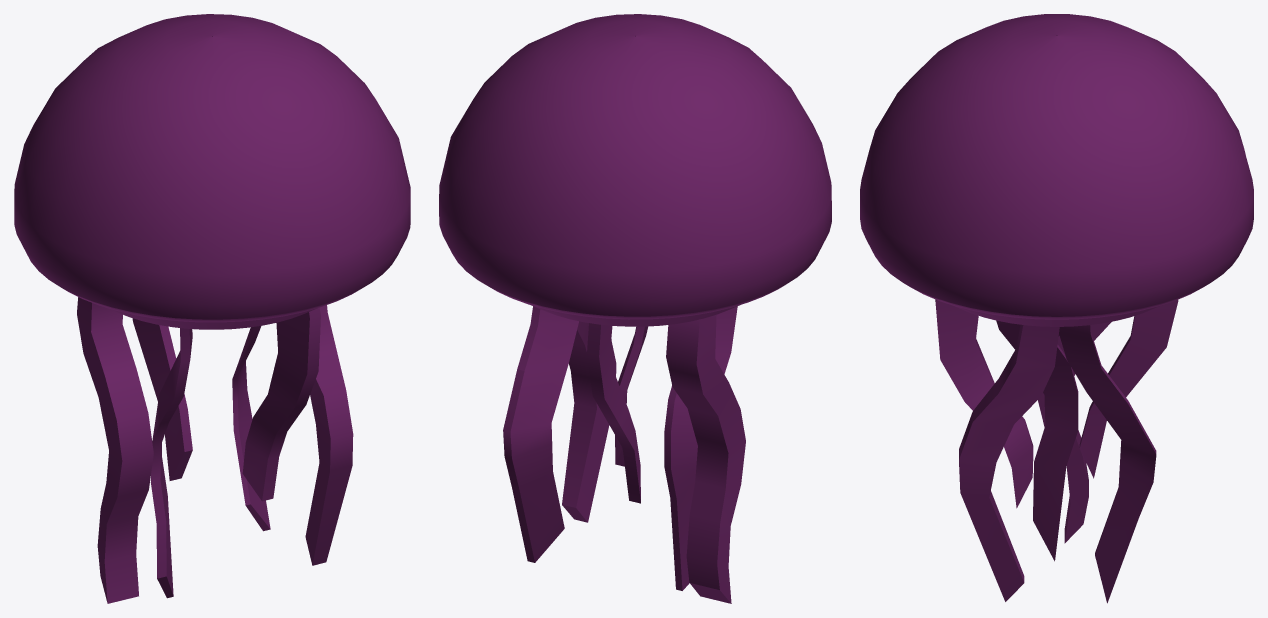
File: Medusa.fbx
3 renders of one model, left to right at view 1: azimuth 30°, elevation 25°; view 2: azimuth 150°, elevation 25°; view 3: azimuth 270°, elevation 25°, orthographic.
Parts seen in each view (by area): view 1: nurbsToPoly1; view 2: nurbsToPoly1; view 3: nurbsToPoly1.
Boxes of the visible parts, x1,y1,x2,y2 form: nurbsToPoly1: (14, 14, 410, 603); nurbsToPoly1: (439, 14, 831, 603); nurbsToPoly1: (860, 14, 1253, 603).
Bounding box in the file's own units: 4.98 × 7.6 × 4.98.
